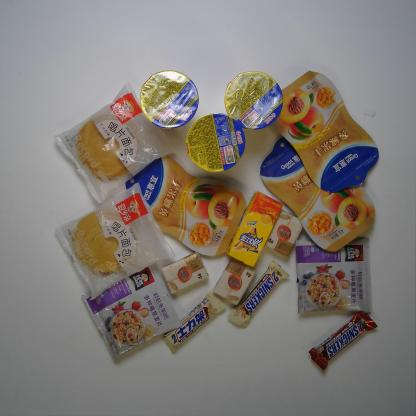Chocolate: (228, 261, 292, 331), (309, 309, 378, 372), (161, 291, 225, 353)
Dessert: (53, 82, 179, 206), (57, 183, 174, 300)
Dried Fruit: (261, 136, 375, 252), (120, 154, 246, 257), (274, 70, 379, 192)
Drink: (226, 192, 285, 268)
Instant Drink: (80, 267, 180, 362), (294, 236, 376, 318)
Instant Noodles: (140, 68, 199, 130), (186, 111, 245, 173), (224, 70, 284, 129)
Tissue: (158, 253, 207, 296), (213, 258, 255, 307), (266, 208, 303, 256)
